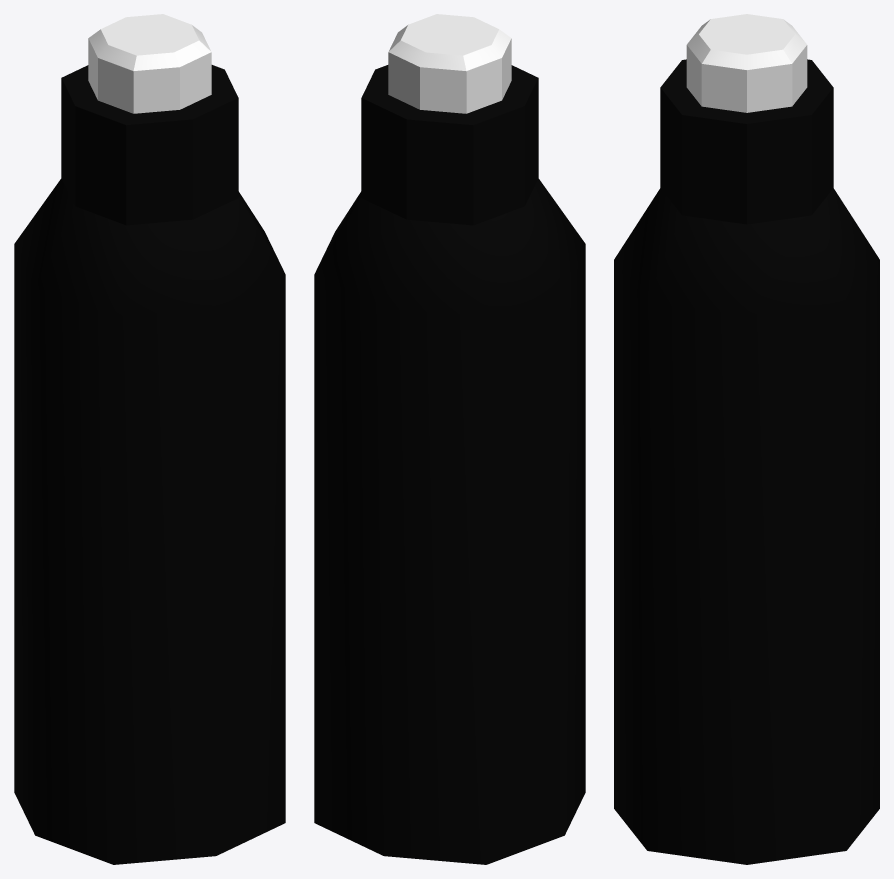
Rendered from Bottle_Sake.glb.
3 views of the same model, side by side, from view 1: azimuth 30°, elevation 25°; view 2: azimuth 150°, elevation 25°; view 3: azimuth 270°, elevation 25° (orthographic).
Parts seen in each view (by area): view 1: sushi_bar_termos_geo; view 2: sushi_bar_termos_geo; view 3: sushi_bar_termos_geo.
Boxes of the visible parts, bbox=[...] form: sushi_bar_termos_geo: bbox=[14, 14, 285, 864]; sushi_bar_termos_geo: bbox=[314, 14, 585, 864]; sushi_bar_termos_geo: bbox=[614, 14, 879, 864].
Bounding box in the file's own units: 0.0989 × 0.3179 × 0.0989.
1 material, 1 textured.
